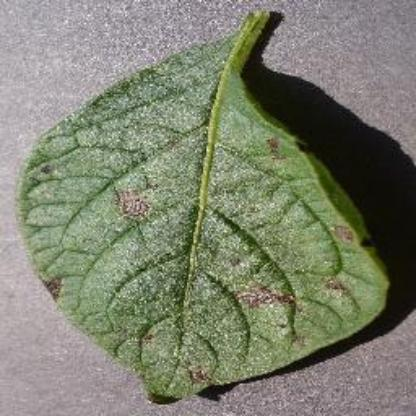Early-Blight: (18, 11, 392, 404)
